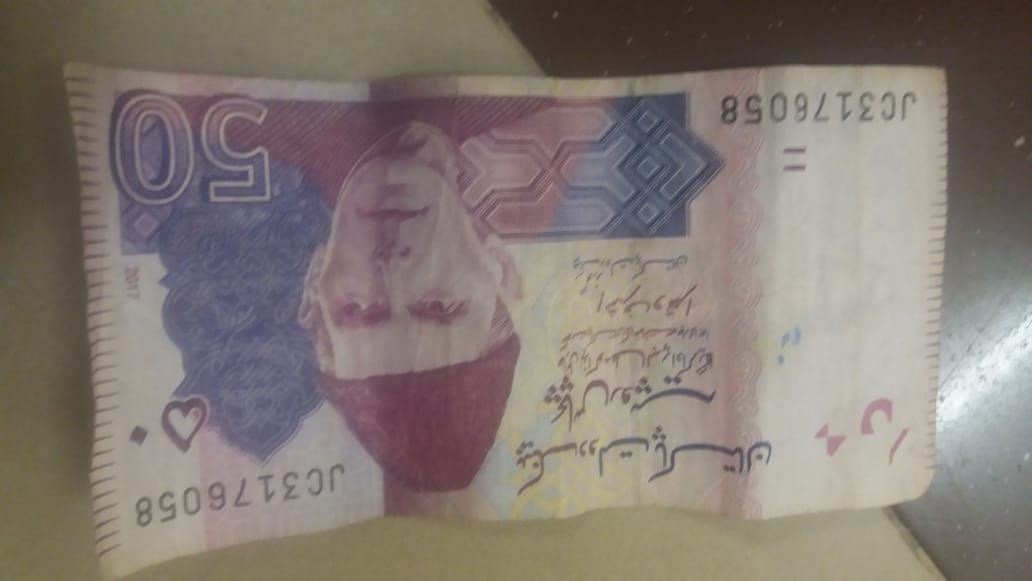50 rupee: (53, 42, 968, 581)
